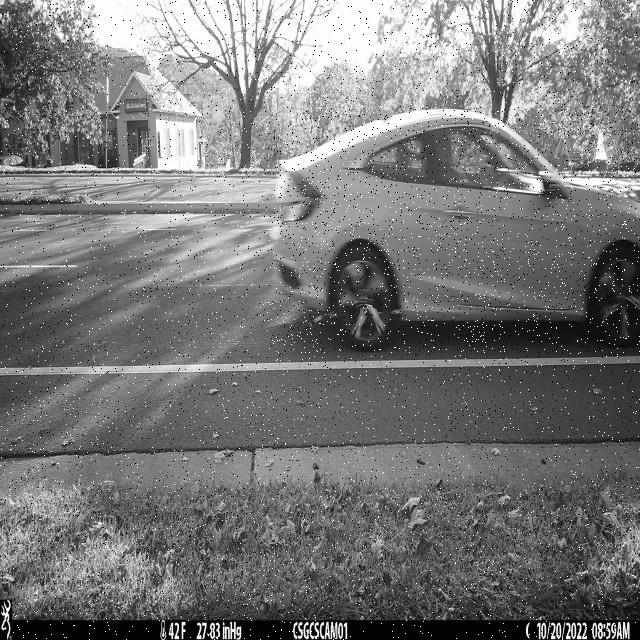Sedan: (271, 109, 640, 353)
